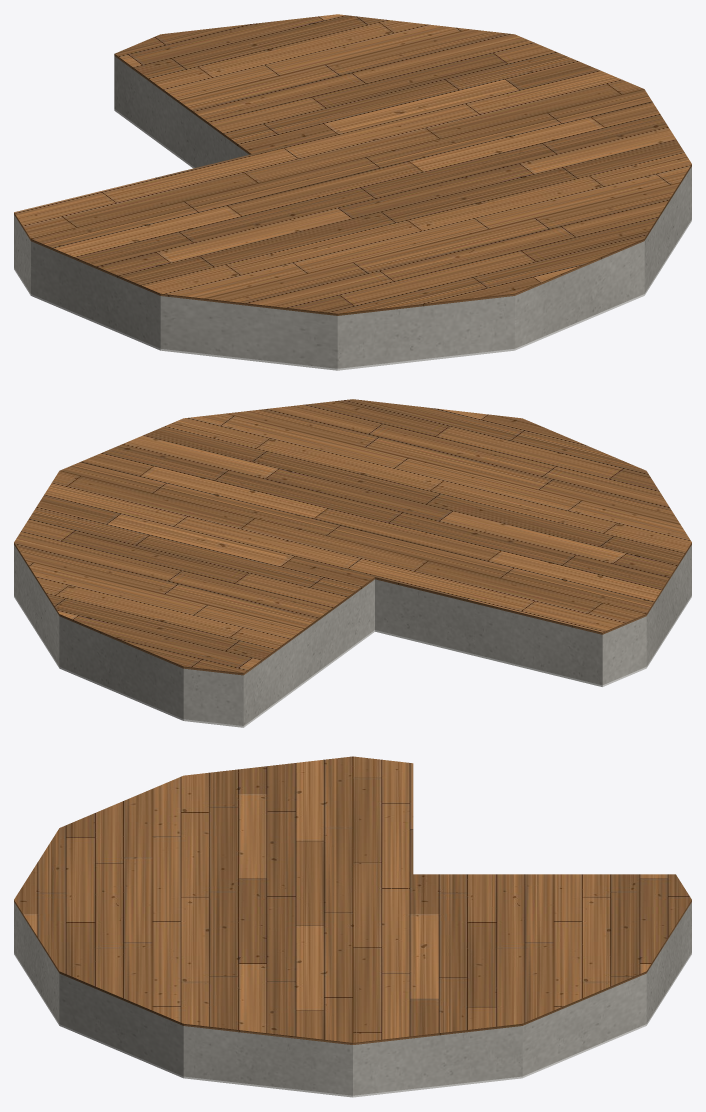
The model's file is turret_slab.glb.
3 views of the same model, one above another, from view 1: azimuth 30°, elevation 25°; view 2: azimuth 150°, elevation 25°; view 3: azimuth 270°, elevation 25° (orthographic). The views are drawn at different scales.
Visible parts, largest first — view 1: turret_slab_oak, turret_slab_concrete, turret_slab_ceil; view 2: turret_slab_oak, turret_slab_concrete, turret_slab_ceil; view 3: turret_slab_oak, turret_slab_concrete, turret_slab_ceil.
Boxes of the visible parts, x1=… form: turret_slab_oak: x1=14, y1=14, x2=691, y2=315; turret_slab_concrete: x1=14, y1=56, x2=691, y2=368; turret_slab_ceil: x1=14, y1=109, x2=691, y2=370; turret_slab_oak: x1=14, y1=399, x2=691, y2=675; turret_slab_concrete: x1=14, y1=545, x2=691, y2=725; turret_slab_ceil: x1=14, y1=595, x2=691, y2=727; turret_slab_oak: x1=14, y1=756, x2=691, y2=1044; turret_slab_concrete: x1=14, y1=902, x2=691, y2=1095; turret_slab_ceil: x1=14, y1=953, x2=691, y2=1097.
Bounding box in the file's own units: 3.38 × 0.3 × 3.38.
3 materials, 2 textured.
